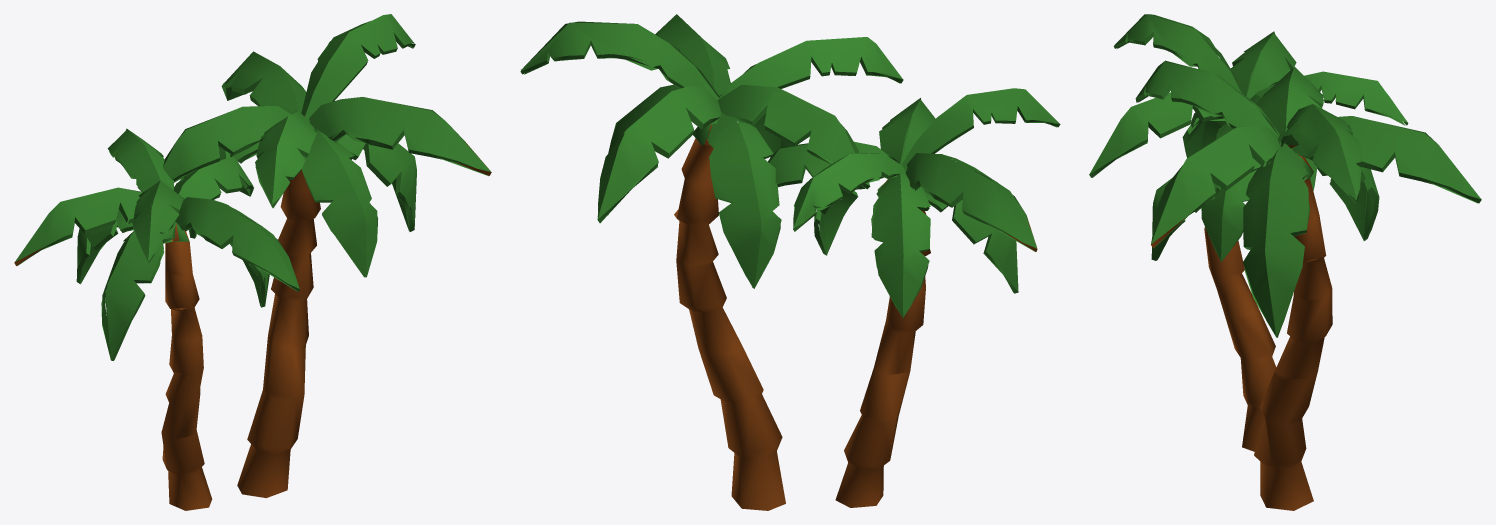
The model's file is PalmTree.glb.
3 views of the same model, side by side, from view 1: azimuth 30°, elevation 25°; view 2: azimuth 150°, elevation 25°; view 3: azimuth 270°, elevation 25° (orthographic). The views are drawn at different scales.
Visible parts, largest first — view 1: PalmTree; view 2: PalmTree; view 3: PalmTree.
Boxes of the visible parts, box(x1,y1,x2,y2) form: PalmTree: box(14, 14, 491, 510); PalmTree: box(520, 14, 1060, 510); PalmTree: box(1089, 14, 1481, 510).
Size of the model in its own units: 5.96 by 5.49 by 4.36.
1 material, 1 textured.
